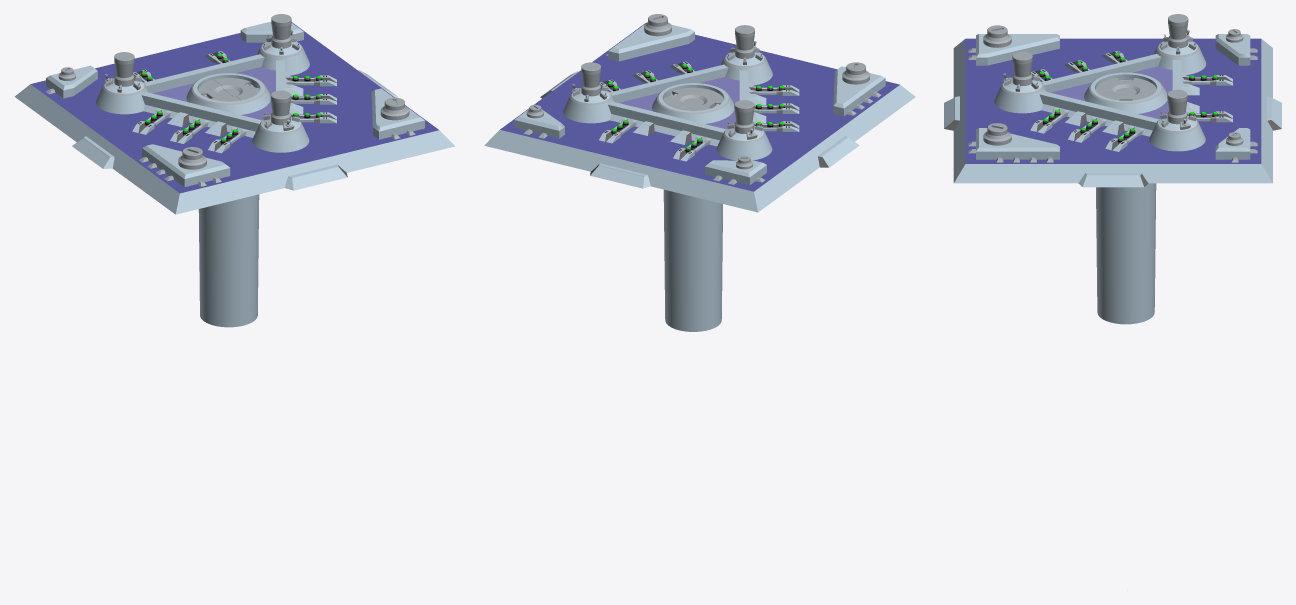
Rendered from Maaker8.fbx.
3 views of the same model, side by side, from view 1: azimuth 30°, elevation 25°; view 2: azimuth 150°, elevation 25°; view 3: azimuth 270°, elevation 25° (orthographic). The views are drawn at different scales.
Parts seen in each view (by area): view 1: foundation_12, hole_base, boots, base, _pillar3, _pillar1, _pillar2, deets, door; view 2: foundation_12, hole_base, boots, base, _pillar1, _pillar2, deets, _pillar3, door; view 3: foundation_12, hole_base, boots, base, _pillar2, deets, _pillar3, _pillar1, door (×2), railstock6, railstock3.
Part boxes in pixels (x1=…): foundation_12: x1=14, y1=22, x2=455, y2=214; hole_base: x1=186, y1=73, x2=270, y2=327; boots: x1=46, y1=21, x2=424, y2=190; base: x1=141, y1=54, x2=289, y2=137; _pillar3: x1=252, y1=90, x2=309, y2=152; _pillar1: x1=96, y1=52, x2=148, y2=114; _pillar2: x1=256, y1=14, x2=309, y2=75; deets: x1=46, y1=67, x2=415, y2=186; door: x1=214, y1=78, x2=259, y2=100; foundation_12: x1=484, y1=22, x2=915, y2=212; hole_base: x1=652, y1=83, x2=734, y2=331; boots: x1=514, y1=22, x2=885, y2=188; base: x1=608, y1=64, x2=752, y2=146; _pillar1: x1=716, y1=100, x2=772, y2=160; _pillar2: x1=563, y1=62, x2=614, y2=123; deets: x1=523, y1=14, x2=881, y2=184; _pillar3: x1=721, y1=25, x2=772, y2=85; door: x1=663, y1=87, x2=708, y2=109; foundation_12: x1=953, y1=38, x2=1272, y2=183; hole_base: x1=1084, y1=72, x2=1167, y2=324; boots: x1=944, y1=34, x2=1281, y2=187; base: x1=1039, y1=54, x2=1185, y2=136; _pillar2: x1=1149, y1=89, x2=1205, y2=151; deets: x1=968, y1=25, x2=1257, y2=162; _pillar3: x1=994, y1=51, x2=1046, y2=113; _pillar1: x1=1153, y1=14, x2=1206, y2=74; door (×2): x1=1095, y1=78, x2=1156, y2=100; railstock6: x1=1182, y1=75, x2=1232, y2=85; railstock3: x1=1105, y1=126, x2=1144, y2=151.
Size of the model in its own units: 517 by 897 by 517.
